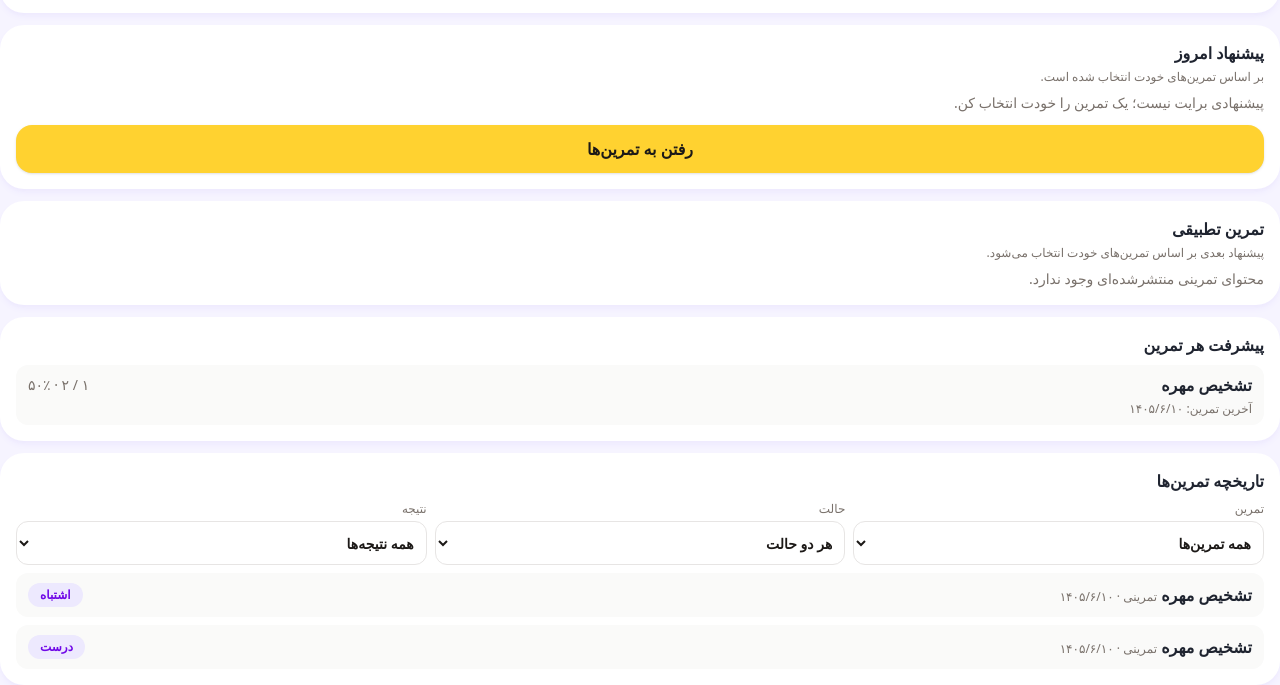
progress page › renders totals, per-exercise rows, and history with filters
The image size is (1280, 685).
(page scrolled)
expect the heading "تاریخچه تمرین‌ها" is shown: met, box [1157,470,1264,492]
expect the text "تشخیص مهره" below "پیشرفت هر تمرین" is shown: met, box [1161,374,1252,396]
Select "فقط درست‌ها" in the dropdown labelled "نتیجه" at {"x": 221, "y": 543}, box [16,521,427,565]
(page scrolled)
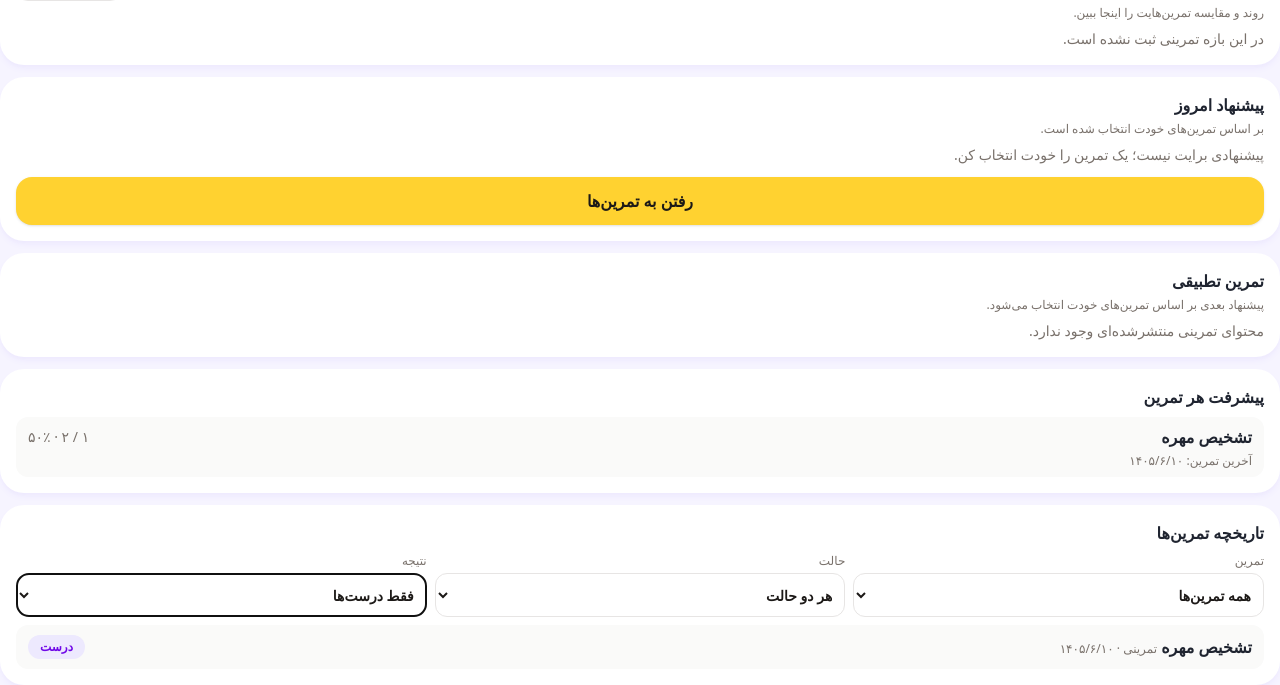
expect the text "اشتباه" is gone: met
